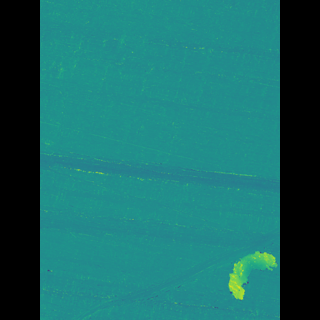Loch: (94, 224, 250, 320), (211, 241, 249, 302)
